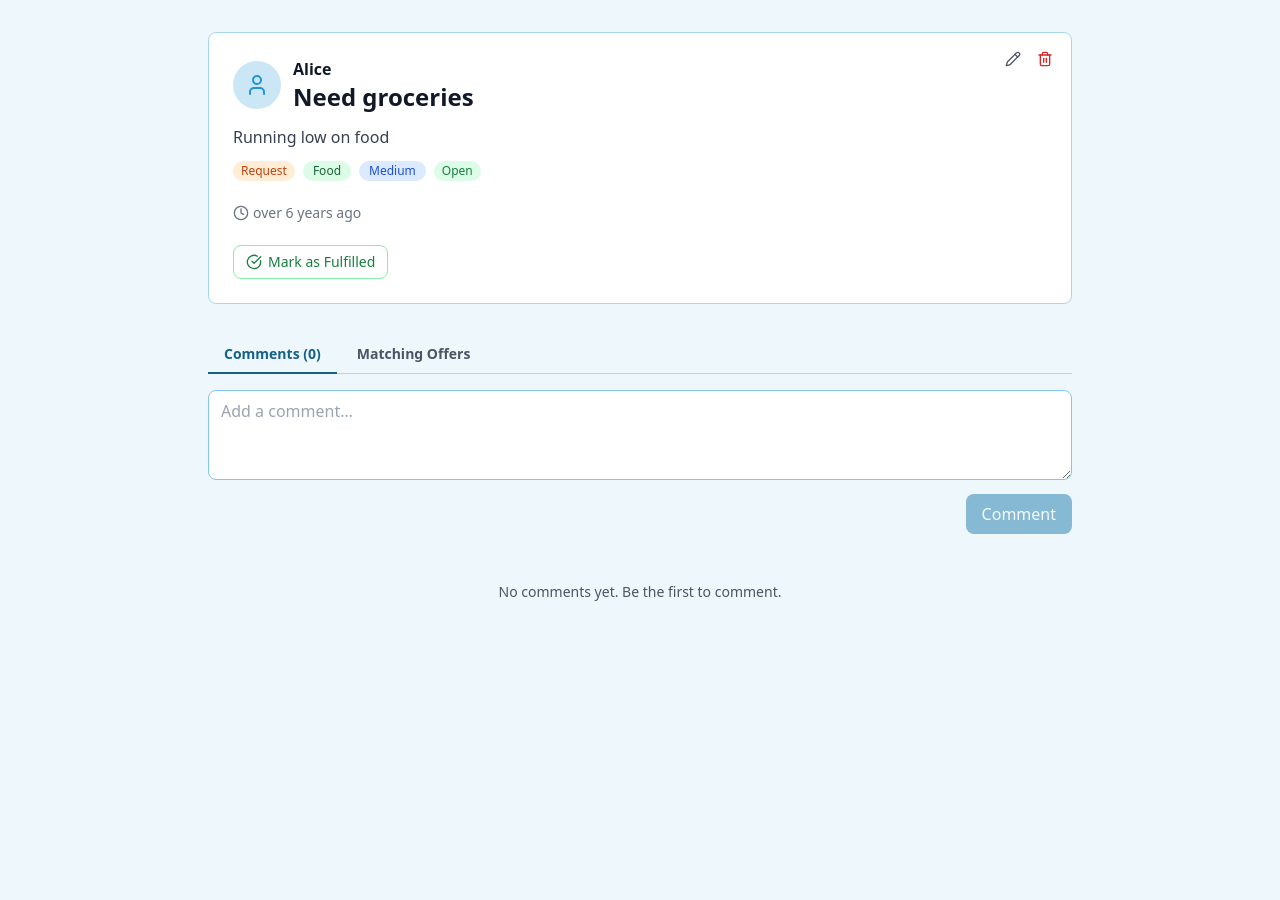
Test: PostDetailPage — fulfill modal integration › opens the fulfill modal when "Mark as Fulfilled" is clicked
The width and height of the screenshot is (1280, 900).
Click the button "Mark as Fulfilled" at (311, 262), box [233,245,388,279]
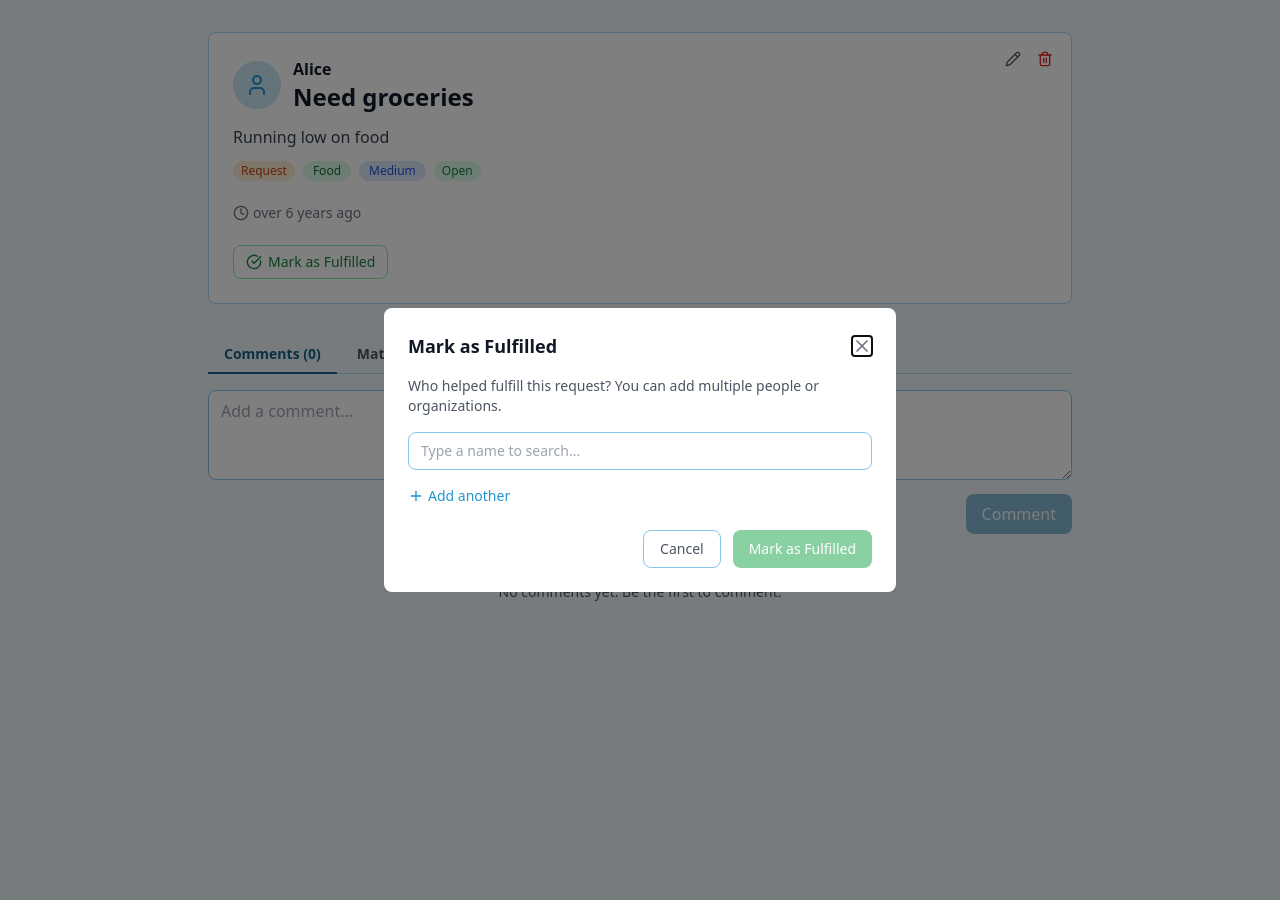
expect the field with placeholder "Type a name to search..." is shown: met, box [408,432,872,470]
